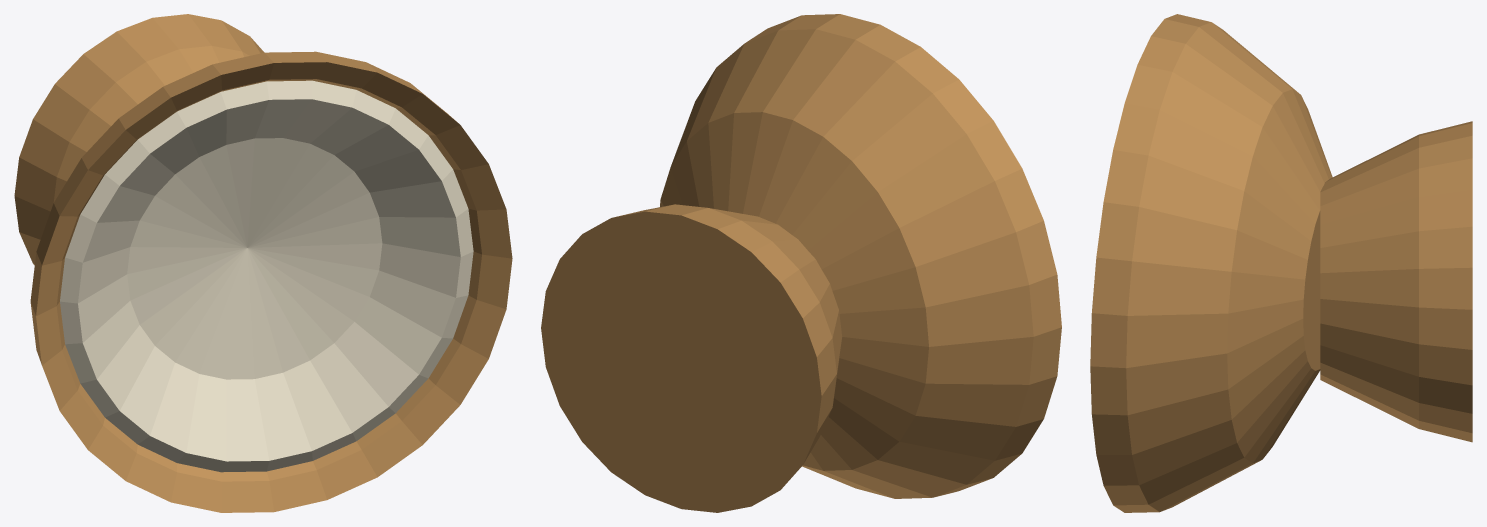
3 views of the same model, side by side, from view 1: azimuth 30°, elevation 25°; view 2: azimuth 150°, elevation 25°; view 3: azimuth 270°, elevation 25° (orthographic).
Parts seen in each view (by area): view 1: part_0, part_1, part_2; view 2: part_1, part_2; view 3: part_1, part_2.
Part boxes in pixels (<box>): part_0: <box>60,80,473,472</box>; part_1: <box>30,51,512,512</box>; part_2: <box>14,14,264,264</box>; part_1: <box>660,14,1061,498</box>; part_2: <box>541,204,842,512</box>; part_1: <box>1090,14,1332,512</box>; part_2: <box>1320,121,1472,442</box>.
Size of the model in its own units: 1.1 by 1.12 by 0.8536.
